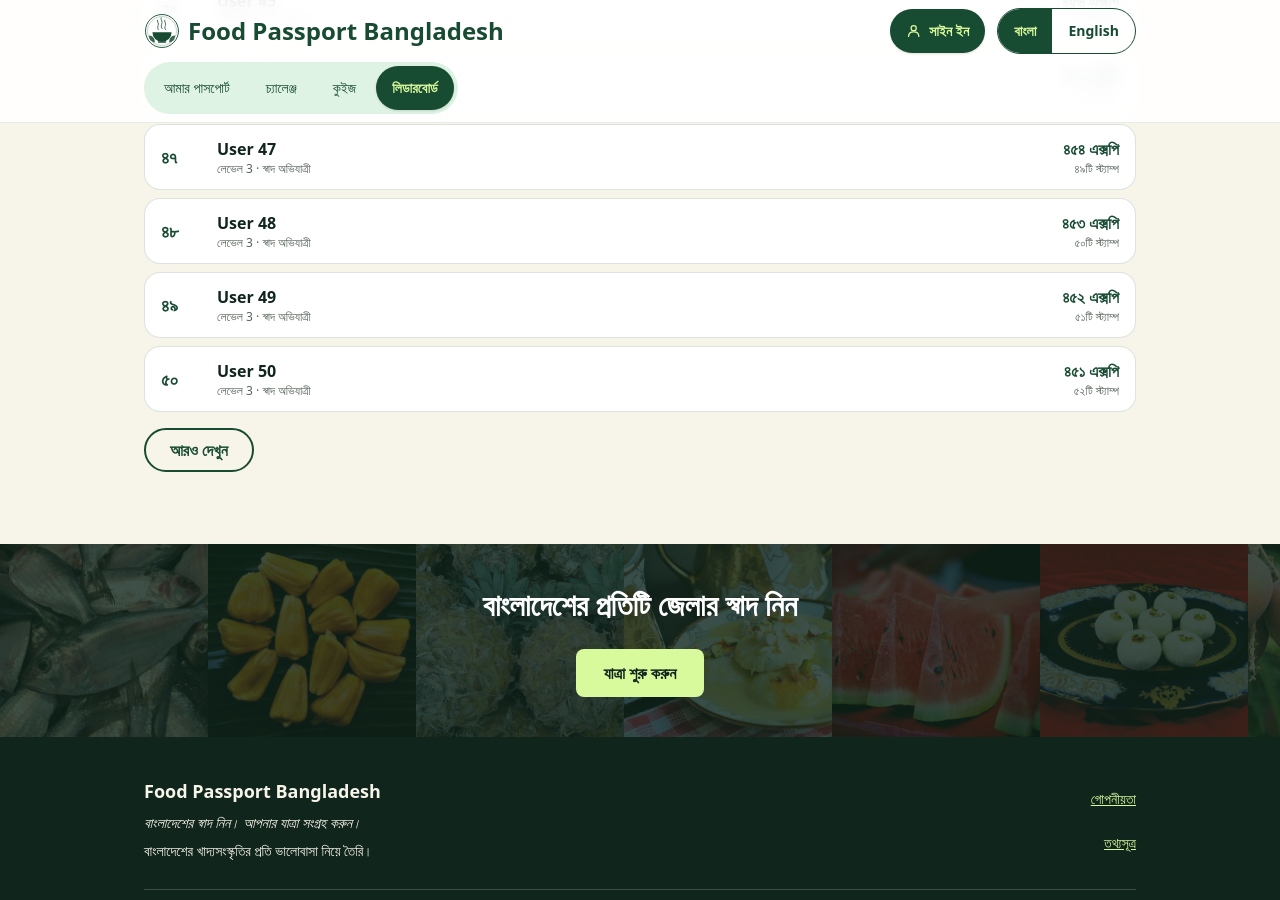
50 at a time: "show more" loads the next page and then goes away
(page scrolled)
Click the button "আরও দেখুন".
click(199, 450)  # box [144,428,254,472]
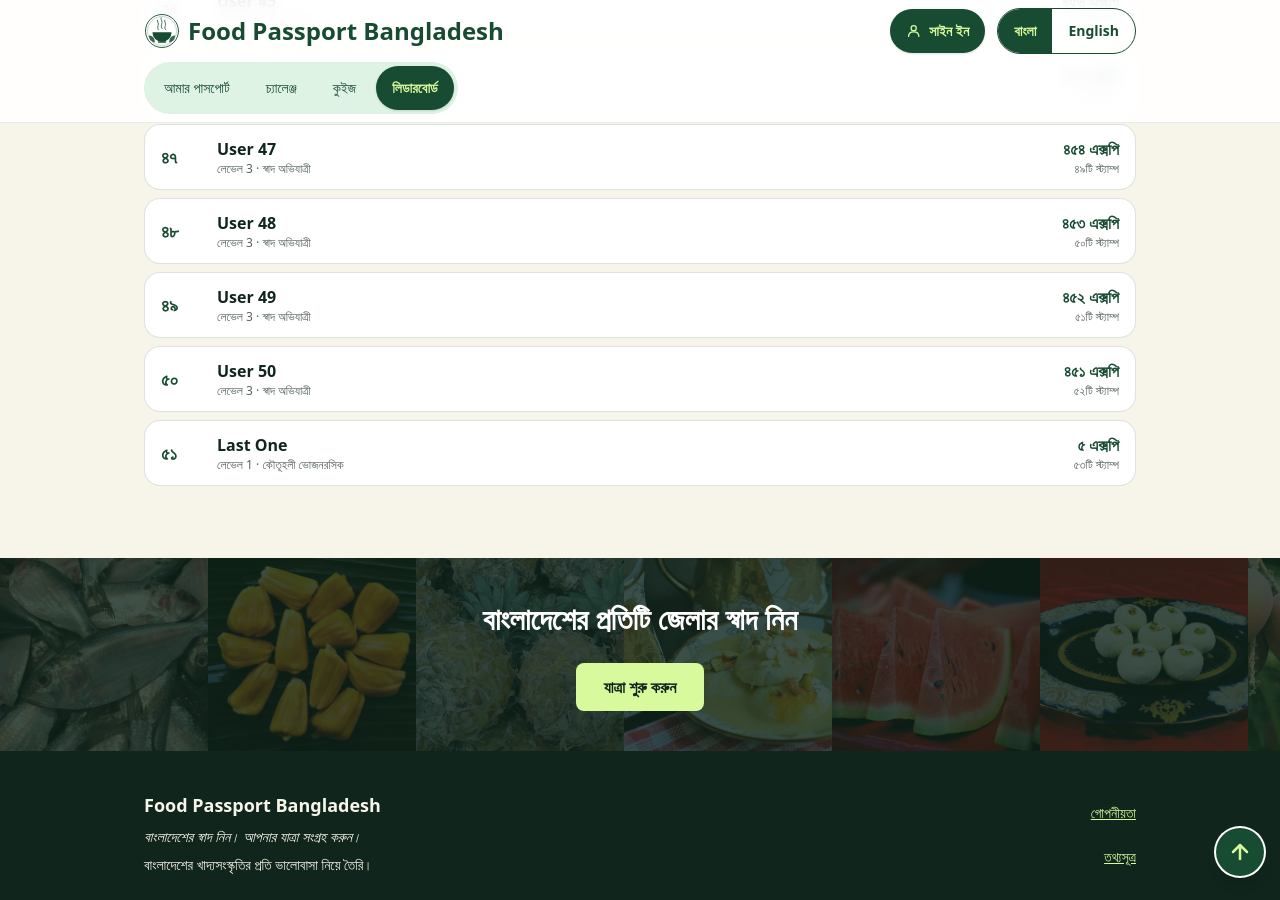
expect the text "Last One" is shown: met, box [217,434,288,456]
expect the button "আরও দেখুন" is gone: met
